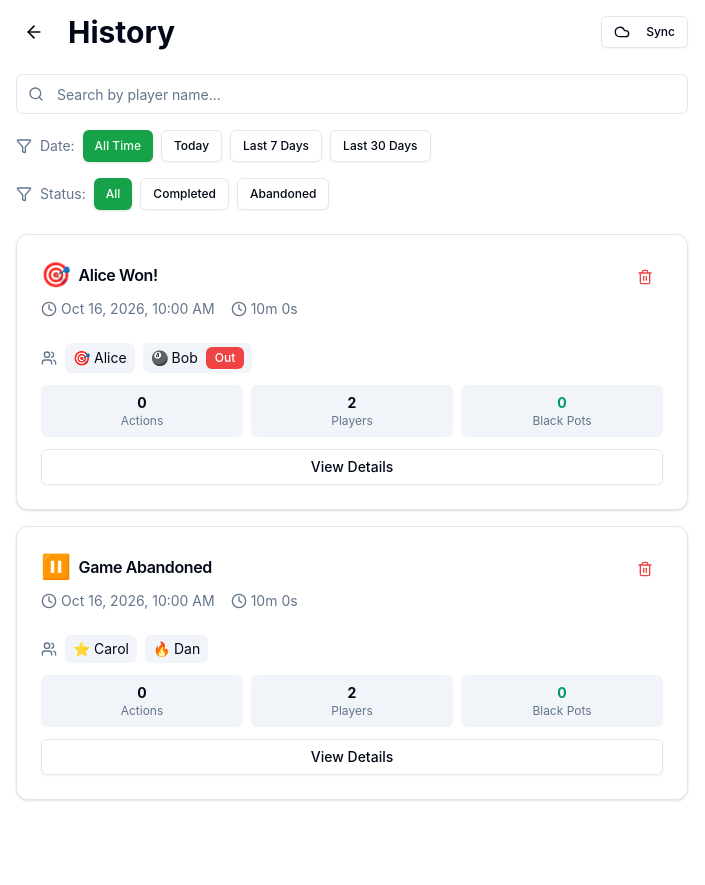
HistoryPage › should show what Sync brought down
This screenshot has width=705, height=885.
Click the button "Sync".
click(645, 32)  # box left=601, top=16, right=688, bottom=48
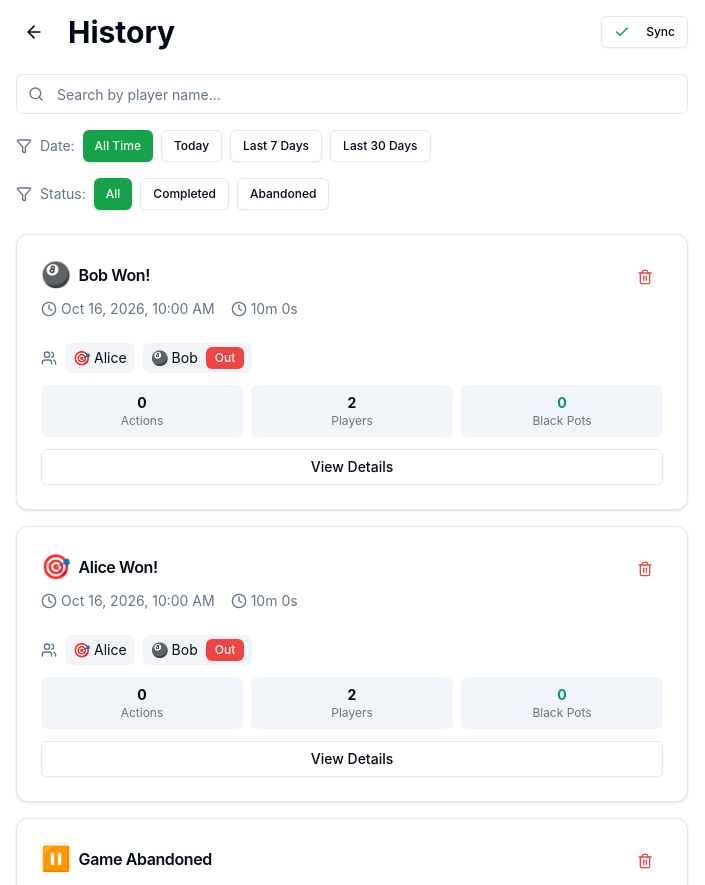
Check: the text "Bob Won!" is shown, box left=79, top=267, right=150, bottom=283
